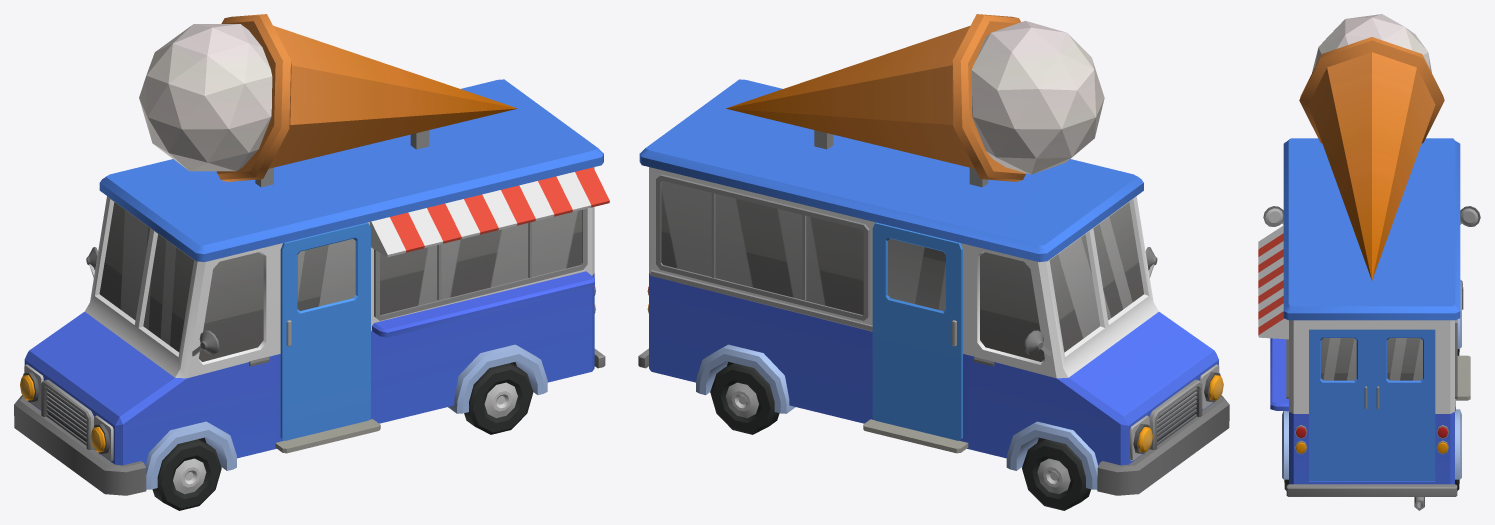
The model's file is IceTruck_1_H.fbx.
3 renders of one model, left to right at view 1: azimuth 30°, elevation 25°; view 2: azimuth 150°, elevation 25°; view 3: azimuth 270°, elevation 25°, orthographic. The views are drawn at different scales.
Parts seen in each view (by area): view 1: IceTruck_1_H, RL, FL; view 2: IceTruck_1_H, RR, FR; view 3: IceTruck_1_H.
Boxes of the visible parts, <box> form: IceTruck_1_H: <box>14,14,609,495</box>; RL: <box>464,363,533,434</box>; FL: <box>152,439,221,510</box>; IceTruck_1_H: <box>638,14,1229,495</box>; RR: <box>710,363,779,434</box>; FR: <box>1022,439,1090,510</box>; IceTruck_1_H: <box>1258,14,1480,510</box>.
Bounding box in the file's own units: 4.16 × 3.38 × 1.84.
